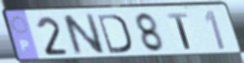1: (203, 9, 226, 51)
2: (35, 15, 71, 57)
8: (134, 11, 164, 53)
D: (95, 13, 134, 55)
N: (60, 12, 108, 58)
T: (165, 12, 193, 51)
